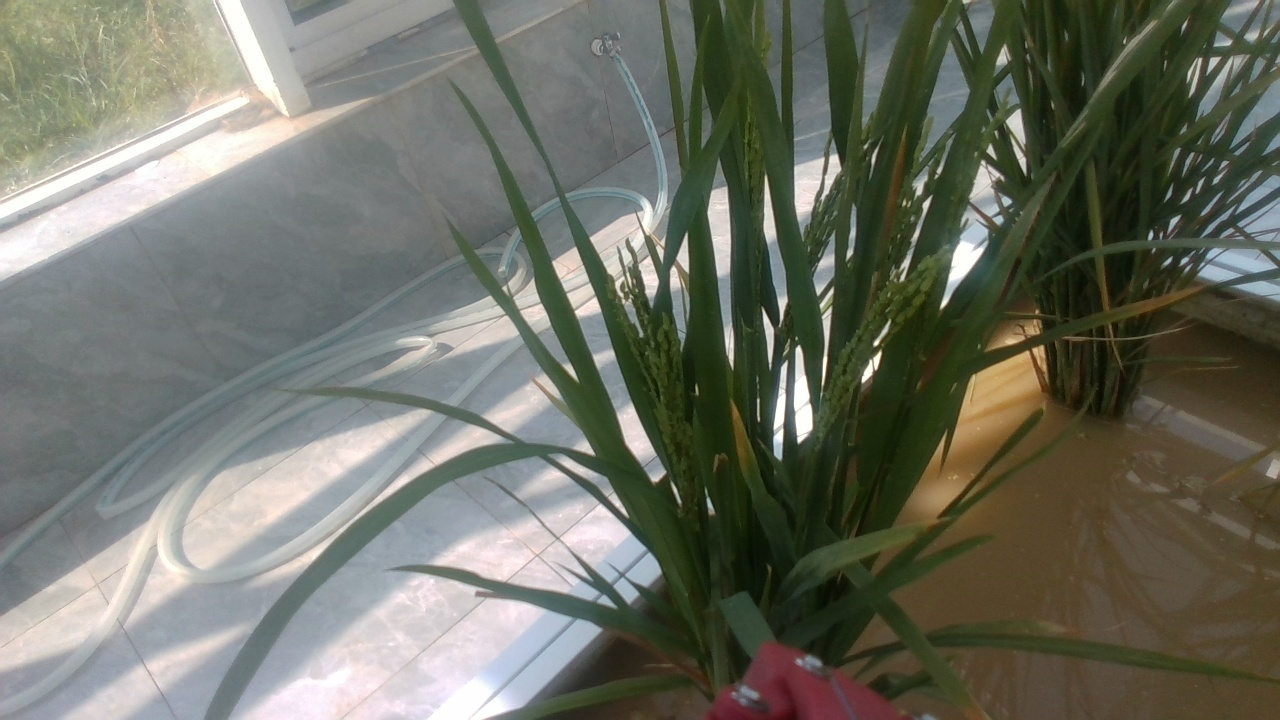panicle: (817, 240, 950, 434), (618, 259, 697, 467), (886, 146, 947, 260), (795, 170, 848, 260)
